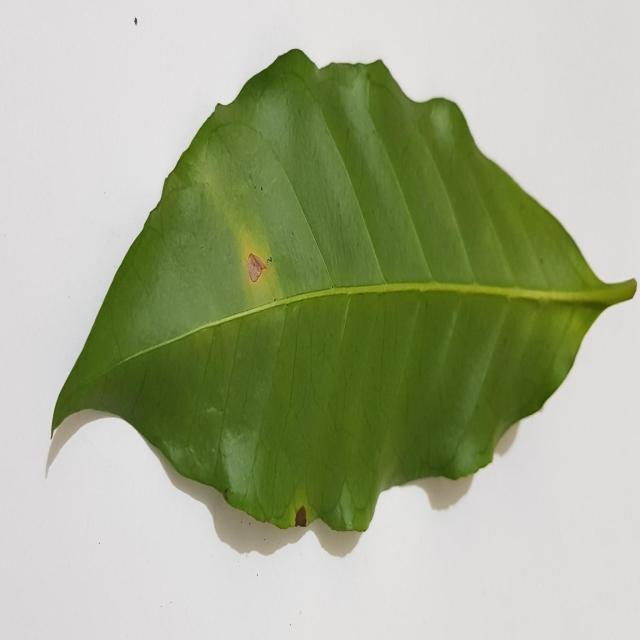Enfermedad-Mancha-de-hierro: (51, 51, 639, 538)
